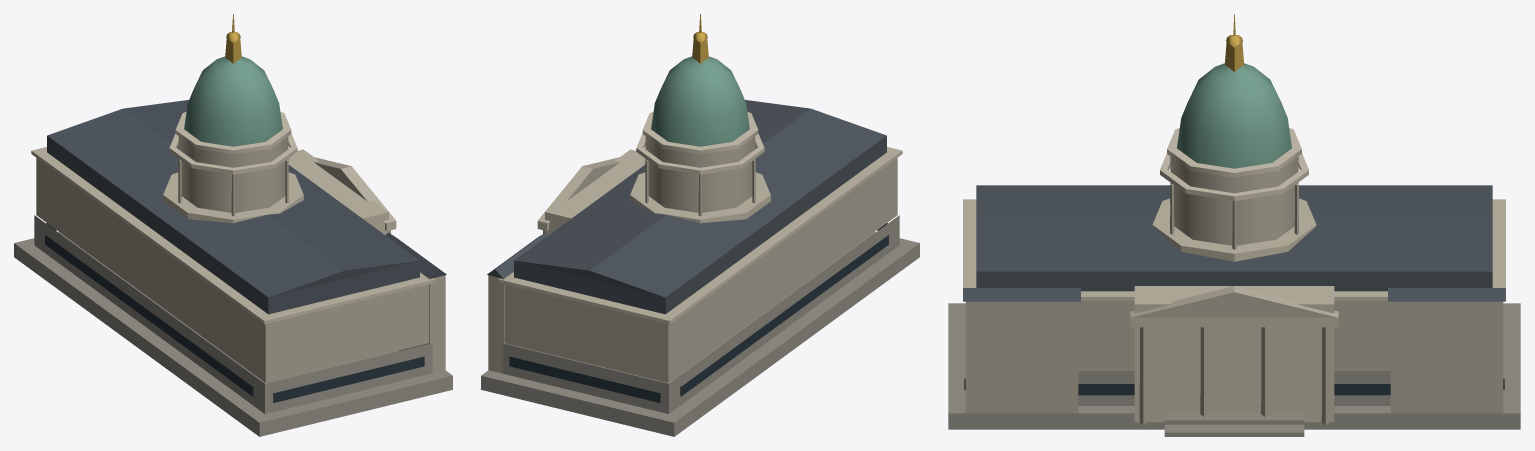
File: mobile-low.glb
3 renders of one model, left to right at view 1: azimuth 30°, elevation 25°; view 2: azimuth 150°, elevation 25°; view 3: azimuth 270°, elevation 25°, orthographic. The views are drawn at different scales.
Visible parts, largest first — view 1: lm.city-hall; view 2: lm.city-hall; view 3: lm.city-hall.
Boxes of the visible parts, left/top/right/bottom form: lm.city-hall: left=14, top=14, right=452, bottom=436; lm.city-hall: left=481, top=14, right=919, bottom=436; lm.city-hall: left=948, top=14, right=1520, bottom=436.
Size of the model in its own units: 73 by 91.75 by 132.
